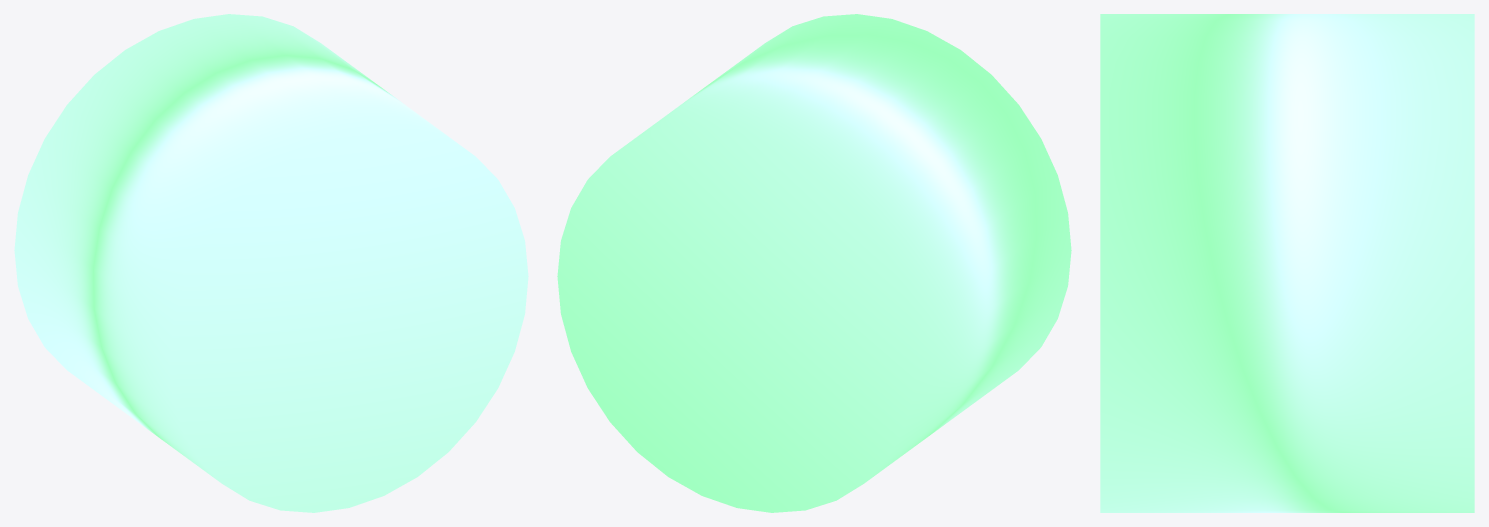
The model's file is GT3_Yoke_Button_Launch_Control.glb.
3 renders of one model, left to right at view 1: azimuth 30°, elevation 25°; view 2: azimuth 150°, elevation 25°; view 3: azimuth 270°, elevation 25°, orthographic. The views are drawn at different scales.
Visible parts, largest first — view 1: GT3_Yoke_Button_Launch_Control; view 2: GT3_Yoke_Button_Launch_Control; view 3: GT3_Yoke_Button_Launch_Control.
Boxes of the visible parts, box(x1,y1,x2,y2) form: GT3_Yoke_Button_Launch_Control: box(14, 14, 528, 512); GT3_Yoke_Button_Launch_Control: box(557, 14, 1071, 512); GT3_Yoke_Button_Launch_Control: box(1100, 14, 1474, 512).
Size of the model in its own units: 0.016 by 0.016 by 0.012.
